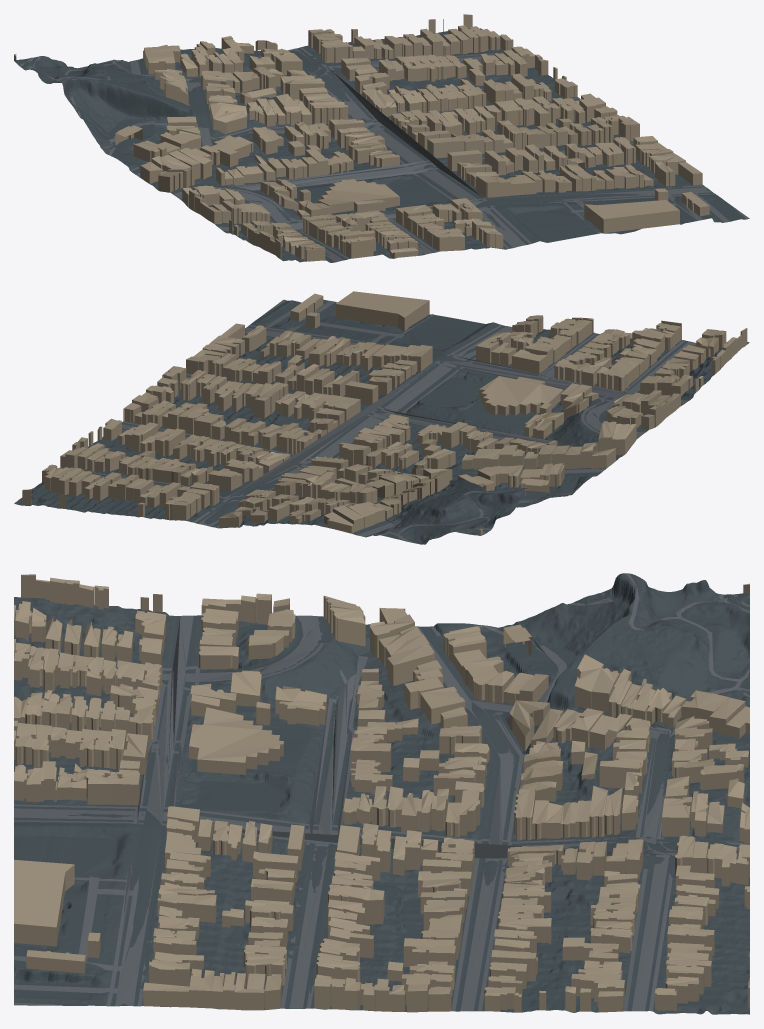
Rendered from epsg26910-1431-10885.lod0.glb.
The picture shows the model from 3 angles, top to bottom: view 1: azimuth 30°, elevation 25°; view 2: azimuth 150°, elevation 25°; view 3: azimuth 270°, elevation 25°; orthographic projection. The views are drawn at different scales.
Visible parts, largest first — view 1: epsg26910-1431-10885-lod0; view 2: epsg26910-1431-10885-lod0; view 3: epsg26910-1431-10885-lod0.
Part boxes in pixels (left/top/right/bottom): epsg26910-1431-10885-lod0: left=14, top=14, right=749, bottom=262; epsg26910-1431-10885-lod0: left=14, top=291, right=749, bottom=544; epsg26910-1431-10885-lod0: left=14, top=573, right=749, bottom=1014.
Bounding box in the file's own units: 384 × 75.2 × 384.
